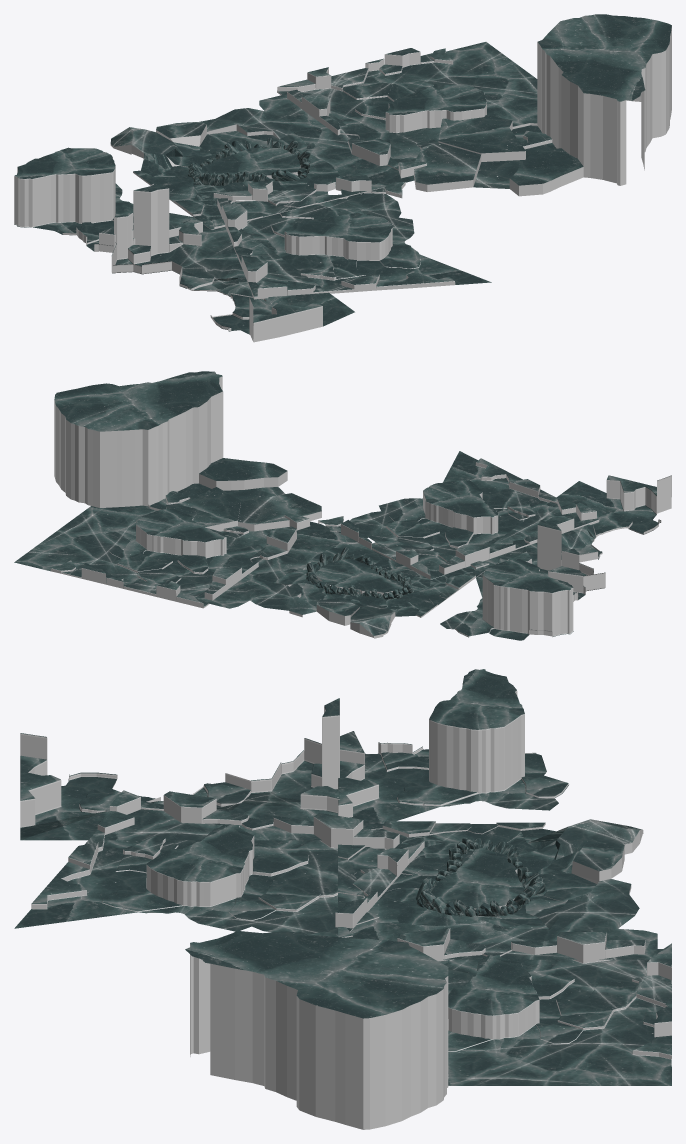
Rendered from IceArena_Floor.fbx.
The picture shows the model from 3 angles, top to bottom: view 1: azimuth 30°, elevation 25°; view 2: azimuth 150°, elevation 25°; view 3: azimuth 270°, elevation 25°; orthographic projection. The views are drawn at different scales.
Visible parts, largest first — view 1: Detailed_Ice_Lake; view 2: Detailed_Ice_Lake; view 3: Detailed_Ice_Lake.
Part boxes in pixels (left/top/right/bottom): Detailed_Ice_Lake: left=14, top=14, right=671, bottom=342; Detailed_Ice_Lake: left=14, top=371, right=671, bottom=640; Detailed_Ice_Lake: left=14, top=669, right=671, bottom=1129.
Bounding box in the file's own units: 72189 × 10325 × 50737.
